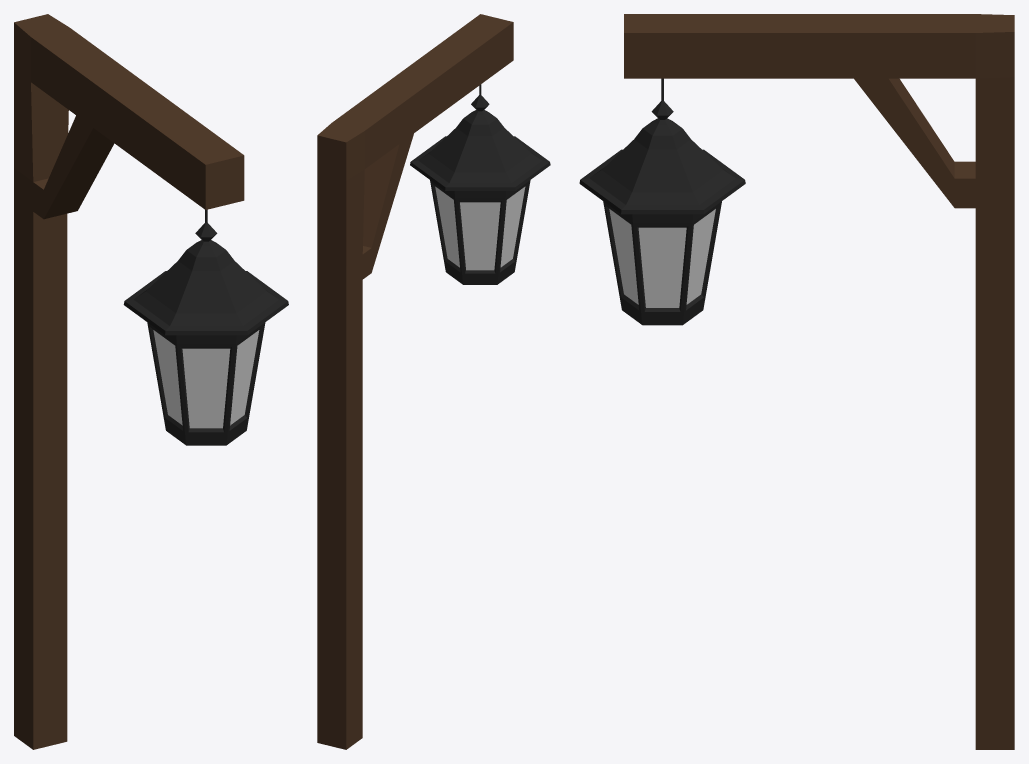
File: light.fbx
3 renders of one model, left to right at view 1: azimuth 30°, elevation 25°; view 2: azimuth 150°, elevation 25°; view 3: azimuth 270°, elevation 25°, orthographic. The views are drawn at different scales.
Visible parts, largest first — view 1: Cube; view 2: Cube; view 3: Cube.
Boxes of the visible parts, left/top/right/bottom form: Cube: left=14, top=14, right=288, bottom=749; Cube: left=317, top=14, right=550, bottom=749; Cube: left=579, top=14, right=1014, bottom=749.
Size of the model in its own units: 32.59 by 179 by 98.43.
